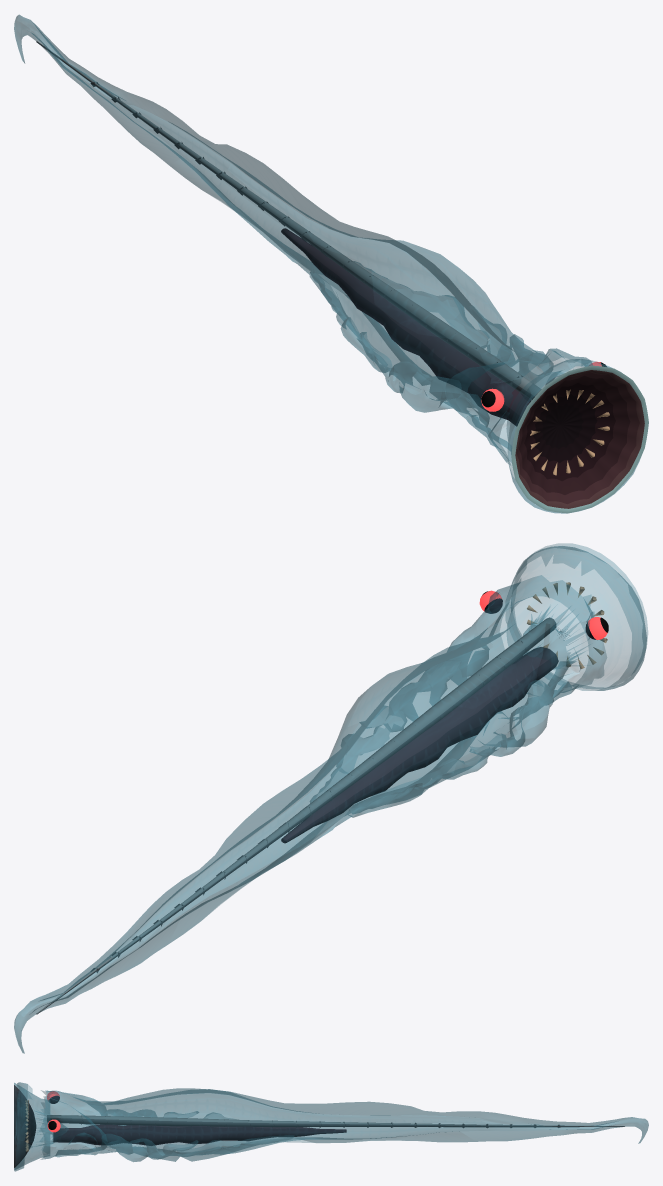
File: stekloust.glb
3 views of the same model, one above another, from view 1: azimuth 30°, elevation 25°; view 2: azimuth 150°, elevation 25°; view 3: azimuth 270°, elevation 25° (orthographic). The views are drawn at different scales.
Visible parts, largest first — view 1: Stekloust; view 2: Stekloust; view 3: Stekloust.
Boxes of the visible parts, x1,y1,x2,y2 form: Stekloust: (14,14,648,513); Stekloust: (14,543,647,1053); Stekloust: (14,1082,648,1171).
Size of the model in its own units: 0.7099 by 0.7067 by 5.
2 materials, 2 textured.
